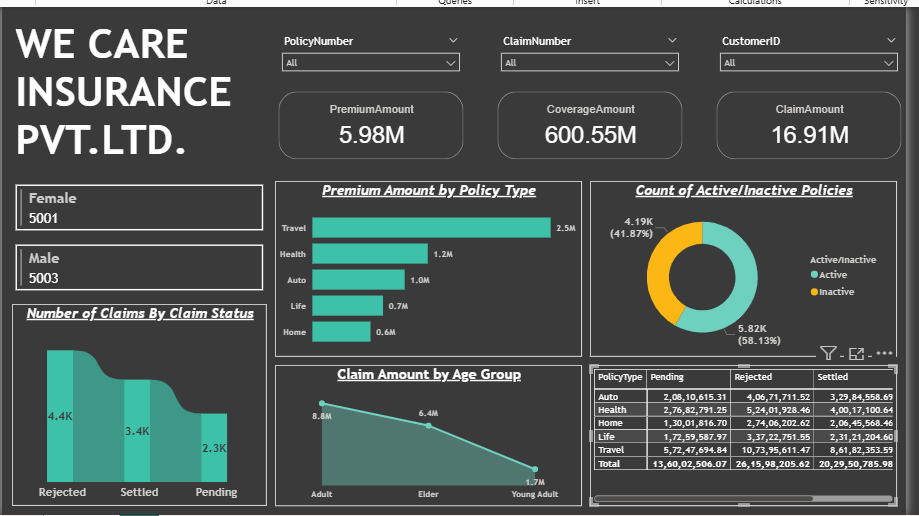

The dashboard page shown, as its layout file describes it:
{"tool":"powerbi","page":{"name":"Page 1","canvas":[1280,720],"ordinal":0},"visuals":[{"type":"slicer","fields":{"Values":["InsuranceData.PolicyNumber"]},"box":[386.9,34,272.1,80.8],"z":0},{"type":"slicer","fields":{"Values":["InsuranceData.ClaimNumber"]},"box":[697.3,34,272.1,80.8],"z":1000},{"type":"slicer","fields":{"Values":["InsuranceData.CustomerID"]},"box":[1007.7,34,272.1,80.8],"z":2000},{"type":"textbox","box":[14.2,12.8,347.2,233.9],"z":3000},{"type":"cardVisual","fields":{"Data":["Sum(InsuranceData.PremiumAmount)"]},"box":[386.9,114.8,272.1,106.3],"z":4000},{"type":"cardVisual","fields":{"Data":["Sum(InsuranceData.CoverageAmount)"]},"box":[697.3,114.8,272.1,106.3],"z":5000},{"type":"cardVisual","fields":{"Data":["Sum(InsuranceData.ClaimAmount)"]},"box":[1007.7,114.8,272.1,106.3],"z":6000},{"type":"multiRowCard","fields":{"Values":["InsuranceData.Gender","CountNonNull(InsuranceData.Gender)"]},"box":[14.2,246.6,361.4,194.2],"z":7000},{"type":"ribbonChart","title":"Number of Claims By Claim Status","fields":{"Category":["InsuranceData.ClaimStatus"],"Y":["CountNonNull(InsuranceData.ClaimStatus)"]},"box":[14.2,420.9,361.4,286.3],"z":8000},{"type":"barChart","title":"Premium Amount by Policy Type","fields":{"Category":["InsuranceData.PolicyType"],"Y":["Sum(InsuranceData.PremiumAmount)"]},"box":[386.9,246.6,435.1,249.4],"z":9000},{"type":"lineChart","title":"Claim Amount by Age Group","fields":{"Category":["InsuranceData.Age Group"],"Y":["Sum(InsuranceData.ClaimAmount)"]},"box":[386.9,507.4,435.1,199.8],"z":10000},{"type":"donutChart","title":"Count of Active/Inactive  Policies","fields":{"Category":["InsuranceData.Active/Inactive"],"Y":["CountNonNull(InsuranceData.Active/Inactive)"]},"box":[833.4,246.6,435.1,249.4],"z":10001},{"type":"pivotTable","fields":{"Values":["Sum(InsuranceData.CoverageAmount)"],"Rows":["InsuranceData.PolicyType"],"Columns":["InsuranceData.ClaimStatus"]},"box":[833.4,507.4,435.1,199.8],"z":10002}]}

Visuals, with their boxes on the page's 1280x720 design canvas (x1, y1, x2, y2). These are canvas units, not pixel positions in the 919x516 screenshot, which may show the page scaled, cropped or inside an application window:
slicer - InsuranceData.PolicyNumber: 387 34 659 115
slicer - InsuranceData.ClaimNumber: 697 34 969 115
slicer - InsuranceData.CustomerID: 1008 34 1280 115
textbox: 14 13 361 247
cardVisual - Sum(InsuranceData.PremiumAmount): 387 115 659 221
cardVisual - Sum(InsuranceData.CoverageAmount): 697 115 969 221
cardVisual - Sum(InsuranceData.ClaimAmount): 1008 115 1280 221
multiRowCard - InsuranceData.Gender x CountNonNull(InsuranceData.Gender): 14 247 376 441
"Number of Claims By Claim Status" ribbonChart: 14 421 376 707
"Premium Amount by Policy Type" barChart: 387 247 822 496
"Claim Amount by Age Group" lineChart: 387 507 822 707
"Count of Active/Inactive  Policies" donutChart: 833 247 1268 496
pivotTable - Sum(InsuranceData.CoverageAmount) x InsuranceData.PolicyType: 833 507 1268 707
